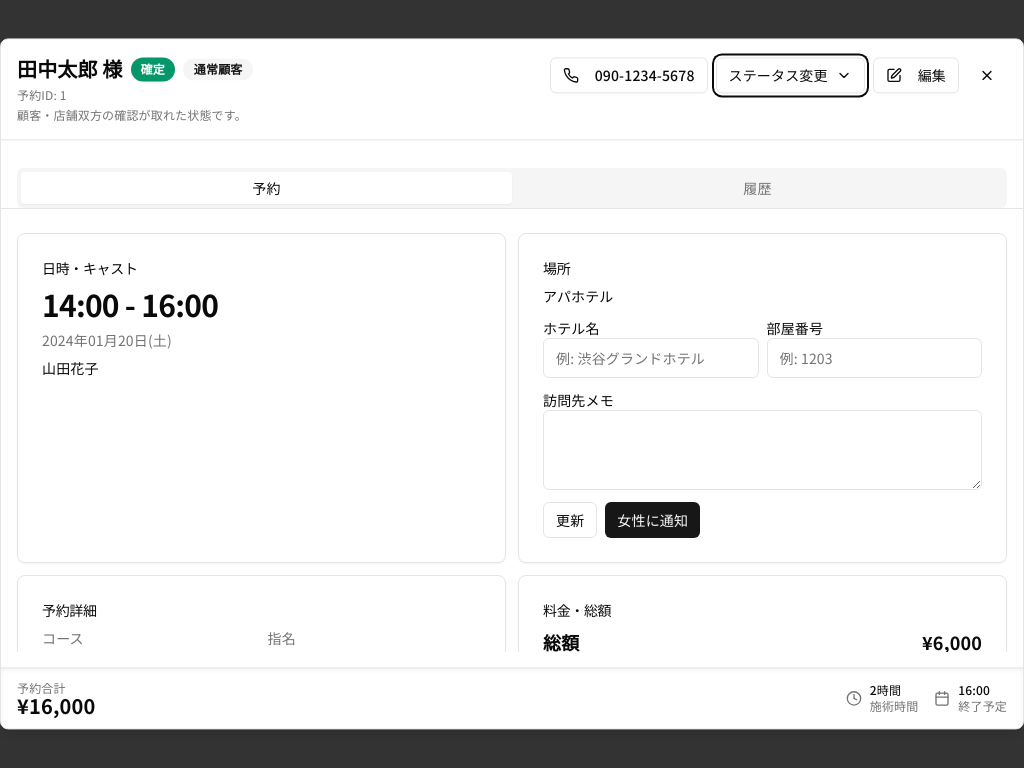
ReservationDialog Edit Mode › should display editable fields in edit mode
The image size is (1024, 768).
// Enter edit mode
Click the button "編集".
click(916, 75)  # box x1=873 y1=57 x2=959 y2=93
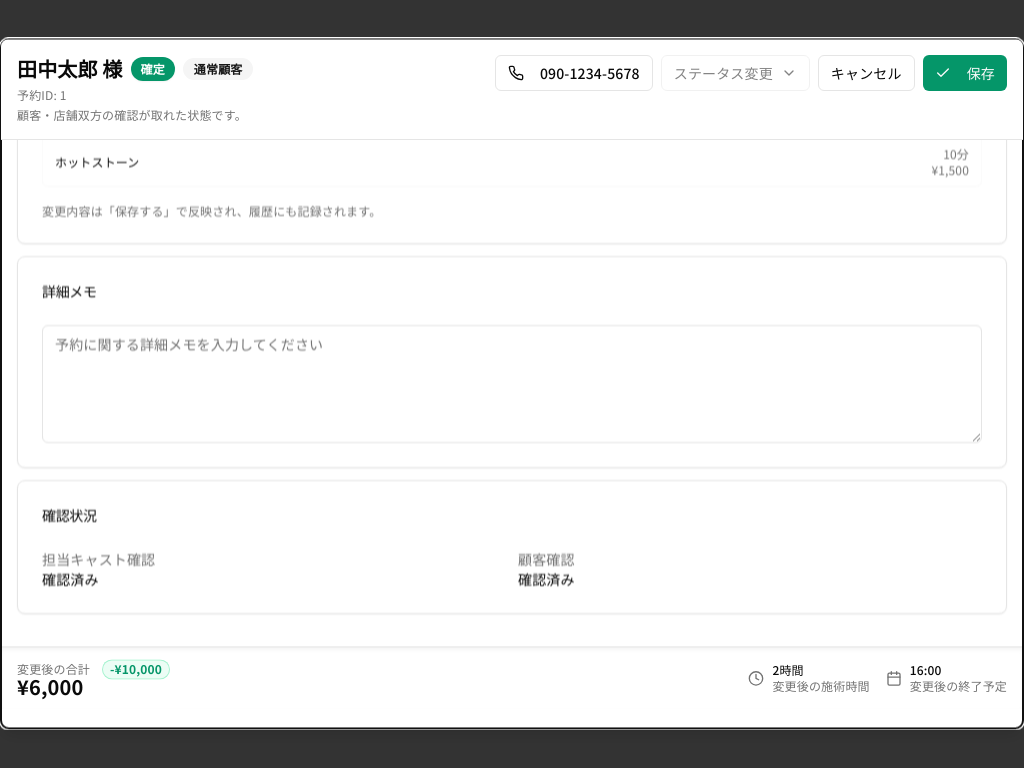
Expected: the text box with placeholder "予約に関する詳細メモを入力してください" is enabled, x1=42 y1=325 x2=982 y2=443
